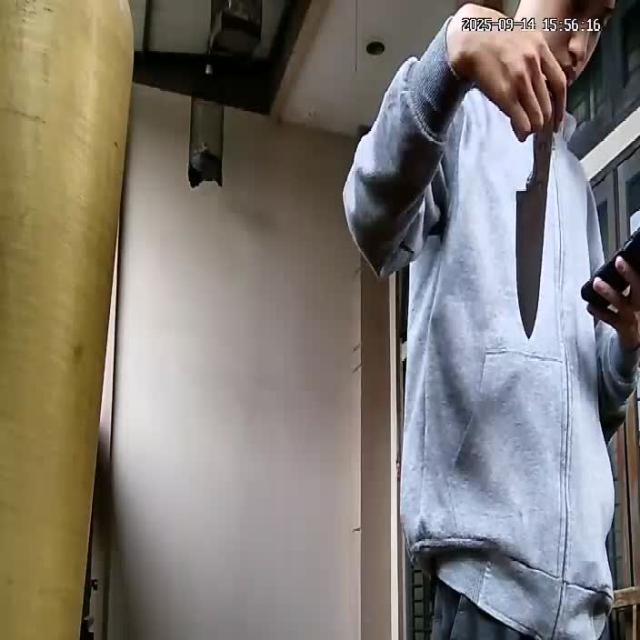senjata_tajam: (511, 133, 554, 338)
